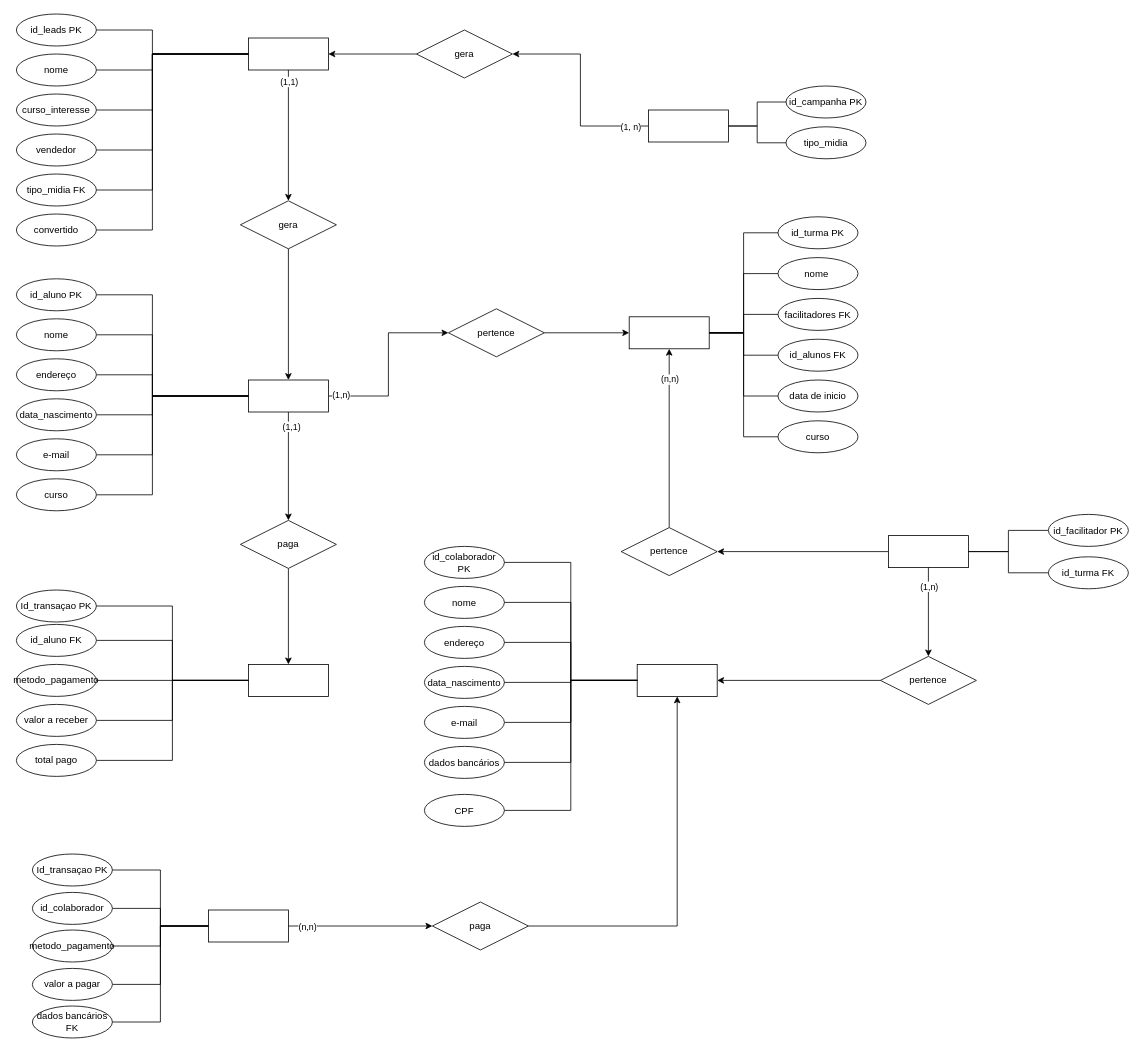
Some shapes in this 1142 by 1052 pixel diagram are drawn without their labels. Each missing label, with the box of its shape:
Aluno: (248, 379, 328, 412)
comercial: (248, 37, 328, 70)
contas a pagar: (208, 909, 288, 942)
contas a receber: (248, 664, 328, 696)
DP: (636, 664, 717, 696)
facilitadores: (888, 535, 968, 568)
Marketing: (648, 109, 728, 142)
Turma: (628, 316, 709, 349)
